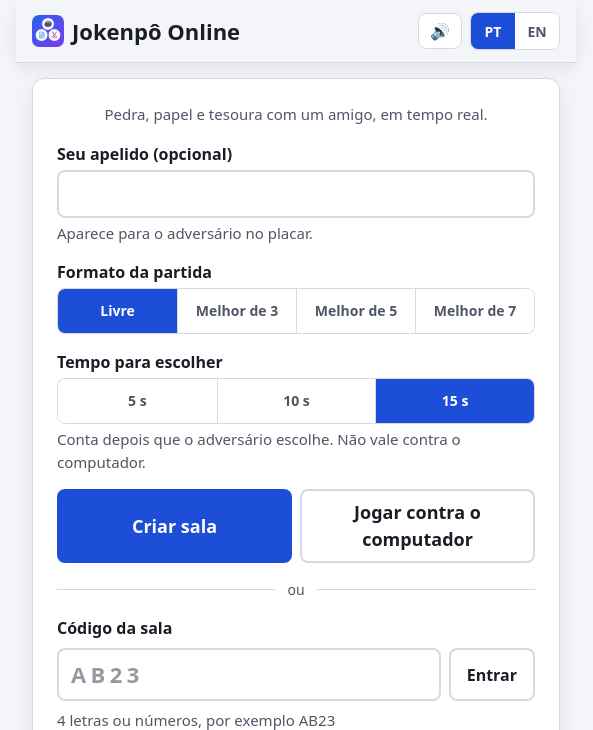
Test: fase 5: formato, apelido e computador › o adversário aparece como online
The width and height of the screenshot is (593, 730).
Click the button "Criar sala". click: (174, 526)
box: [57, 489, 292, 563]
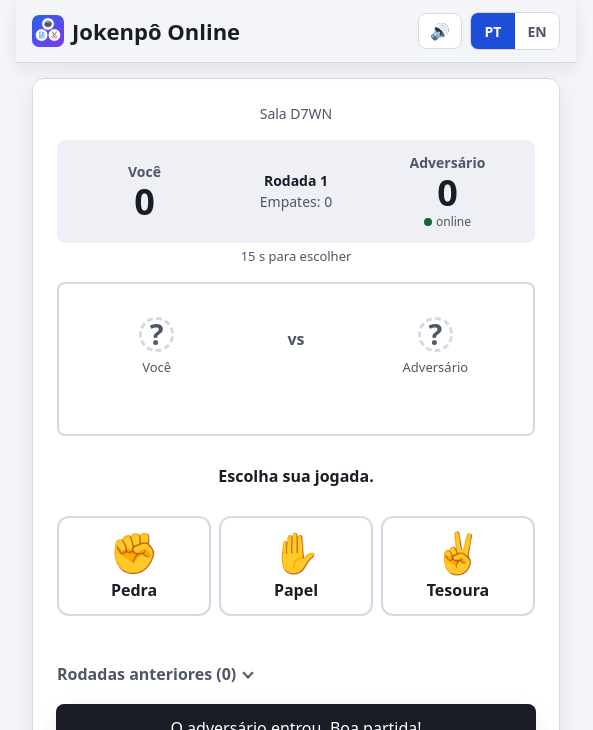
Expected: the text "online" is shown, [424, 213, 471, 231]
